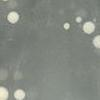white: (4, 11, 22, 26), (81, 19, 96, 36), (0, 84, 11, 100), (12, 88, 26, 100), (91, 32, 100, 50), (60, 20, 72, 33), (74, 13, 83, 25), (91, 16, 98, 23)
